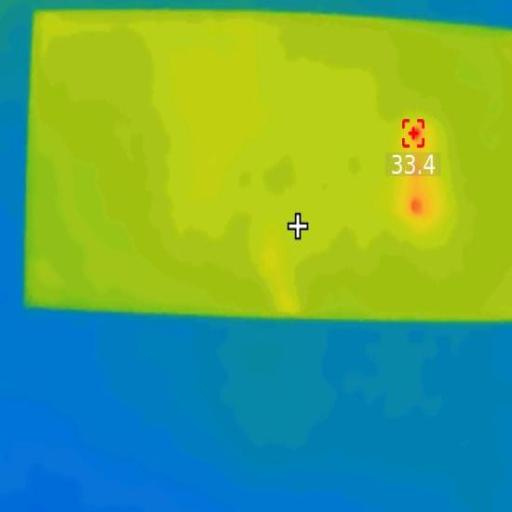hotspot: (412, 195, 424, 217), (408, 123, 420, 143)
